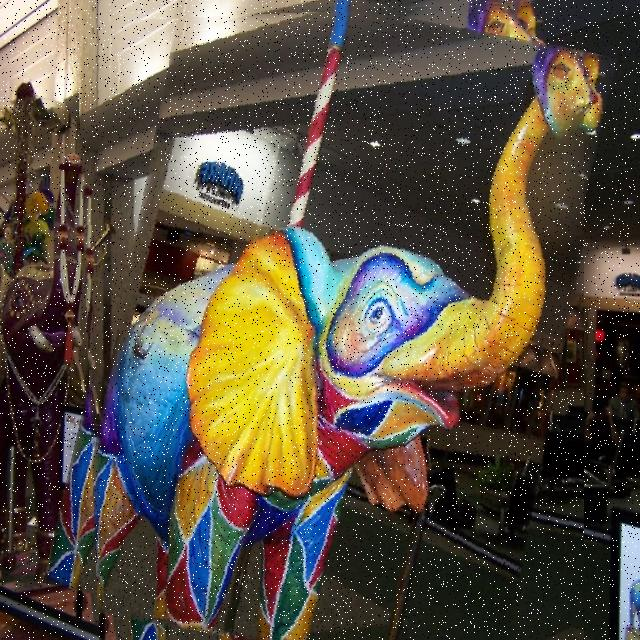elephant: (76, 0, 584, 640)
